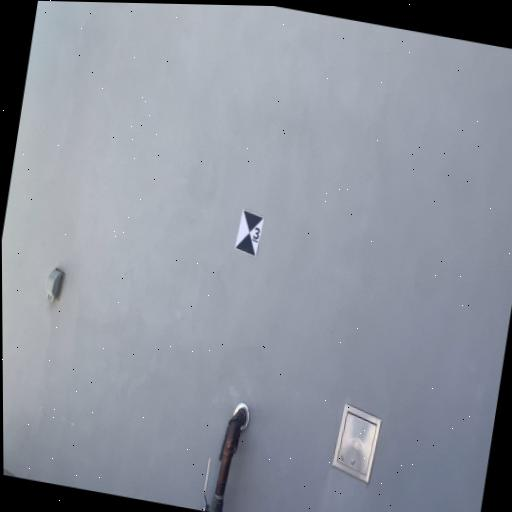target3: (233, 208, 264, 258)
